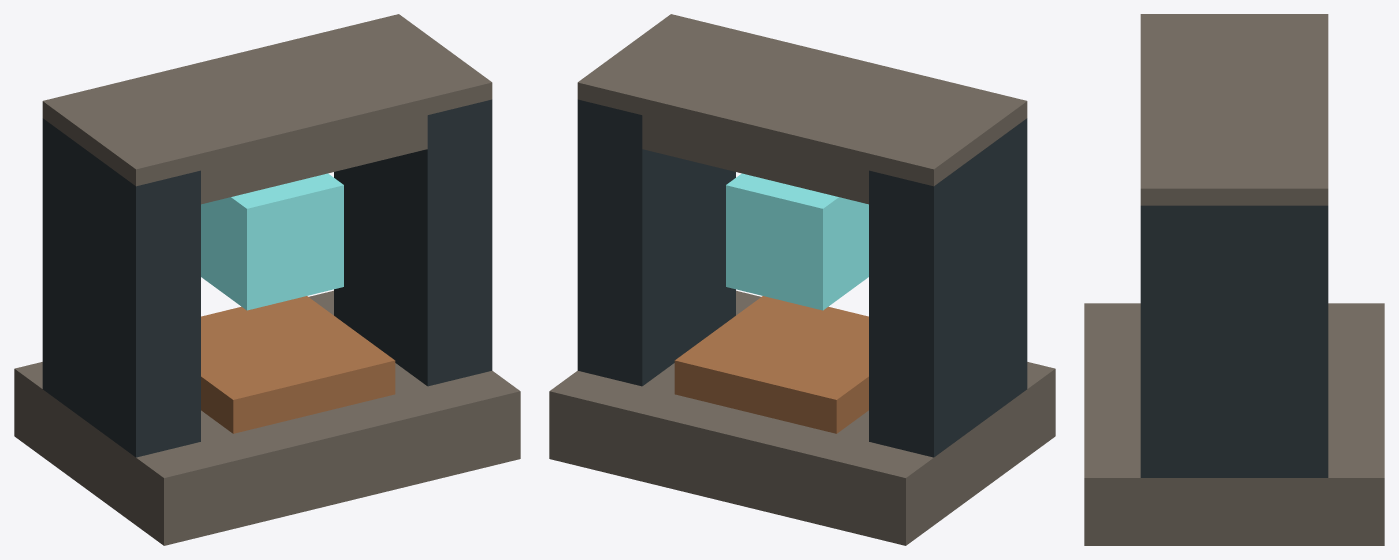
The model's file is property_imprinter.glb.
The picture shows the model from 3 angles, left to right: view 1: azimuth 30°, elevation 25°; view 2: azimuth 150°, elevation 25°; view 3: azimuth 270°, elevation 25°; orthographic projection.
Parts seen in each view (by area): view 1: property_imprinter/housing, property_imprinter/shaft; view 2: property_imprinter/housing, property_imprinter/shaft; view 3: property_imprinter/housing.
Boxes of the visible parts, x1,y1,x2,y2 form: property_imprinter/housing: (14,14,520,545); property_imprinter/shaft: (201,173,343,310); property_imprinter/housing: (549,14,1055,545); property_imprinter/shaft: (726,173,868,310); property_imprinter/housing: (1084,14,1384,545).
Bounding box in the file's own units: 0.6875 × 0.6562 × 0.5.
